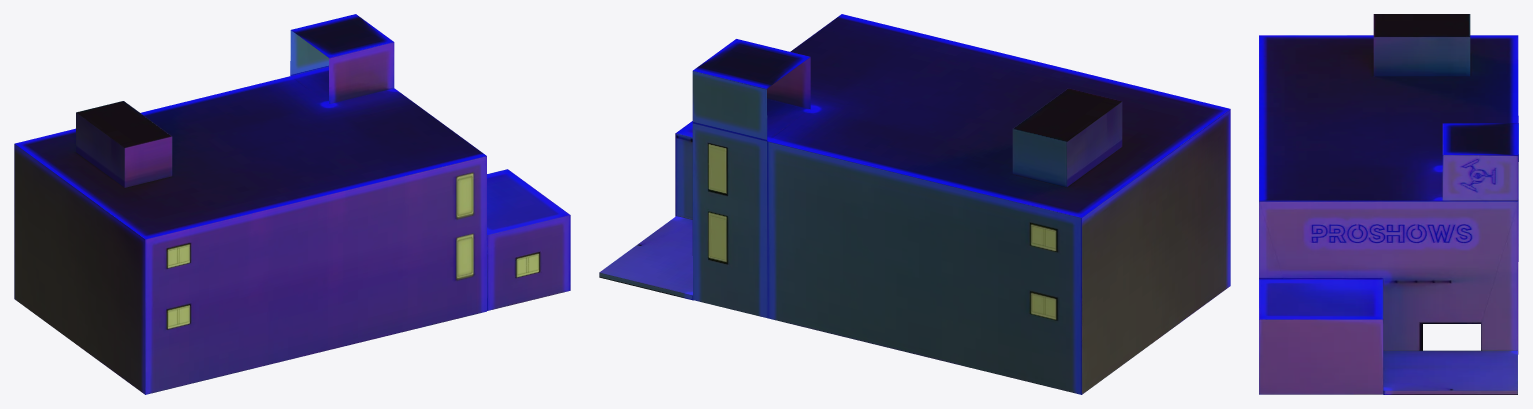
Rendered from Hostel1-transformed.glb.
The picture shows the model from 3 angles, left to right: view 1: azimuth 30°, elevation 25°; view 2: azimuth 150°, elevation 25°; view 3: azimuth 270°, elevation 25°; orthographic projection. The views are drawn at different scales.
Visible parts, largest first — view 1: Cube.121; view 2: Cube.121; view 3: Cube.121.
Boxes of the visible parts, box(x1,y1,x2,y2) form: Cube.121: box(14, 14, 570, 394); Cube.121: box(599, 14, 1230, 394); Cube.121: box(1259, 14, 1518, 394).
Size of the model in its own units: 583 by 265 by 311.
Materials: 1 (1 with a texture image).
